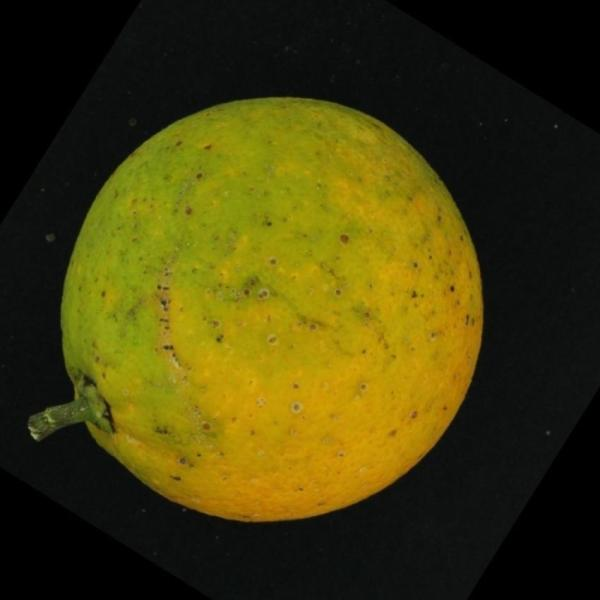Greening: (29, 89, 491, 529)
